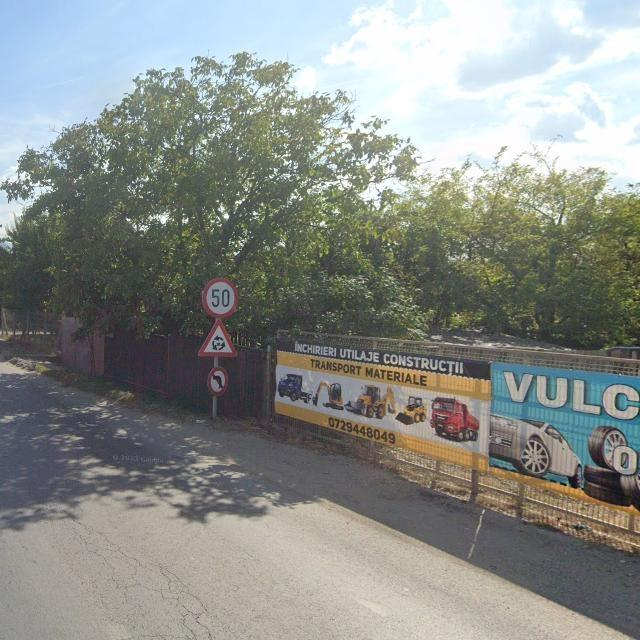forb_speed_over_50: (201, 278, 238, 319)
